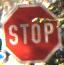Stop sign: (0, 0, 63, 64)
